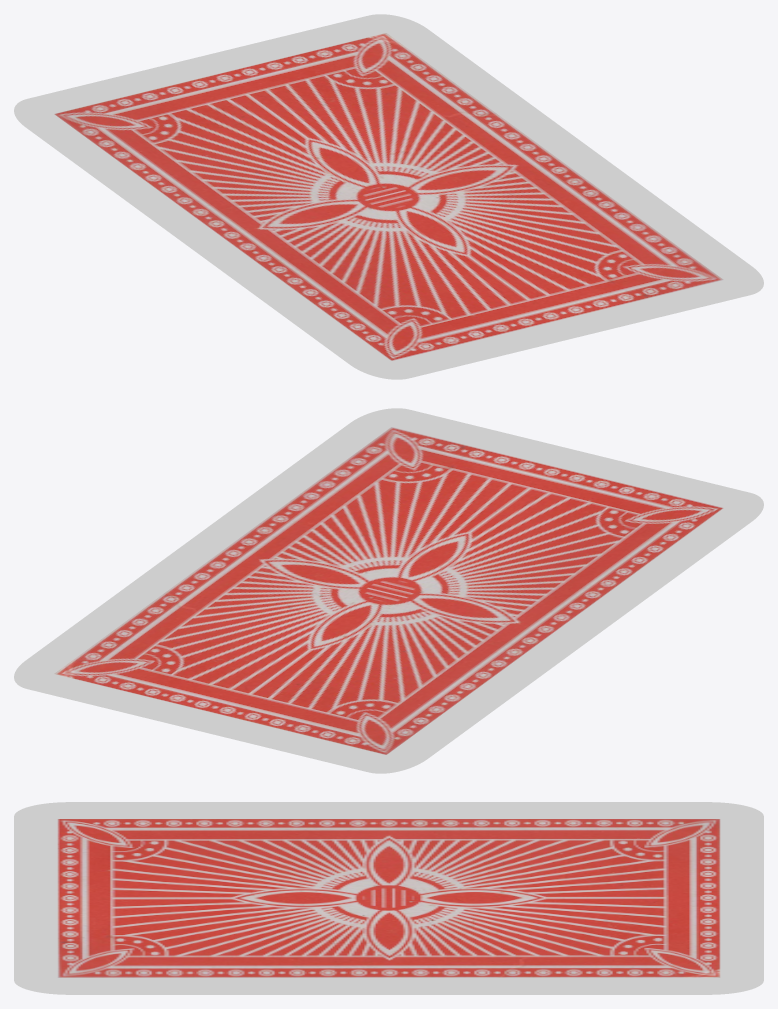
Rendered from card.fbx.
3 renders of one model, top to bottom at view 1: azimuth 30°, elevation 25°; view 2: azimuth 150°, elevation 25°; view 3: azimuth 270°, elevation 25°, orthographic.
Parts seen in each view (by area): view 1: BottomTex_Cube.001, Bottom_Plane.003; view 2: BottomTex_Cube.001, Bottom_Plane.003; view 3: BottomTex_Cube.001, Bottom_Plane.003.
Part boxes in pixels (bbox=[...]): BottomTex_Cube.001: bbox=[54, 33, 723, 360]; Bottom_Plane.003: bbox=[14, 14, 763, 379]; BottomTex_Cube.001: bbox=[54, 427, 723, 754]; Bottom_Plane.003: bbox=[14, 408, 763, 773]; BottomTex_Cube.001: bbox=[57, 819, 720, 977]; Bottom_Plane.003: bbox=[14, 802, 763, 994].
Bounding box in the file's own units: 122 × 3.26e-05 × 200.
2 materials, 1 textured.
